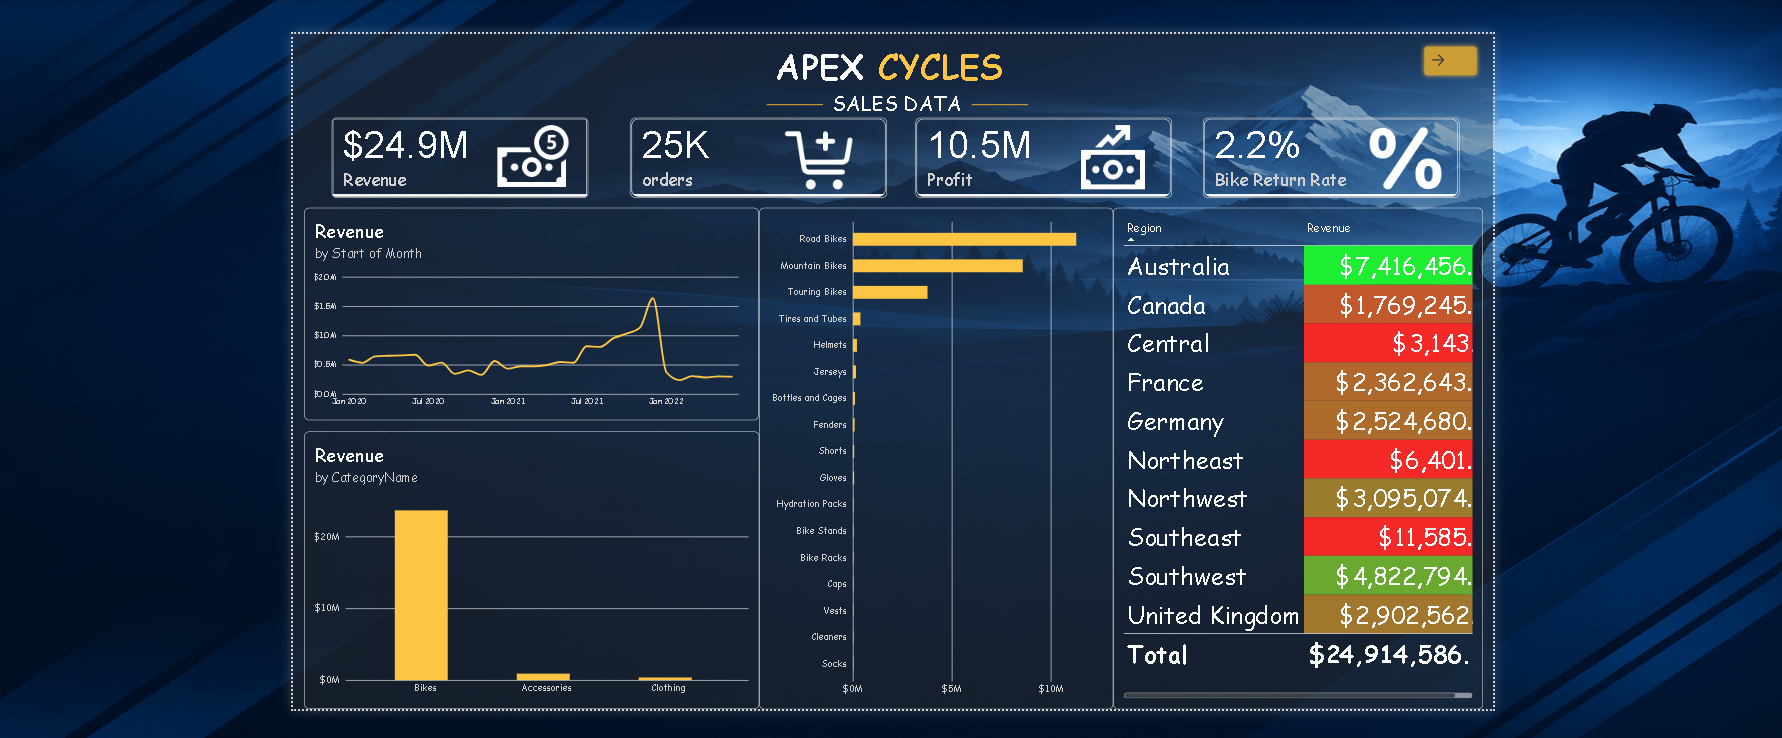

This screenshot's page, from the dashboard's own definition file:
{"tool":"powerbi","page":{"name":"Exclusive Dashboard","canvas":[1920,1080],"ordinal":0},"visuals":[{"type":"cardVisual","fields":{"Data":["Measure Table.Total Revenue"]},"box":[62,134,410,128],"z":0},{"type":"lineChart","fields":{"Category":["Calendar Lookup.Start of Month"],"Y":["Measure Table.Revenue"]},"box":[18.1,278.7,727.5,340.2],"z":1000},{"type":"clusteredColumnChart","fields":{"Category":["Product Categories Lookup.CategoryName"],"Y":["Measure Table.Revenue"]},"box":[18,636,728,444],"z":2000},{"type":"clusteredBarChart","fields":{"Category":["Product Subcategories Lookup.SubcategoryName"],"Y":["Measure Table.Revenue"]},"box":[746,278,566,802],"z":3000},{"type":"tableEx","fields":{"Values":["Territory Lookup.Region","Measure Table.Revenue"]},"box":[1312,278,592,802],"z":4000},{"type":"textbox","box":[28,12,1876,122],"z":5000},{"type":"cardVisual","fields":{"Data":["Calendar Lookup.total orders"]},"box":[540,134,410,128],"z":6000},{"type":"cardVisual","fields":{"Data":["Measure Table.Total Profit"]},"box":[996,134,410,128],"z":7000},{"type":"cardVisual","fields":{"Data":["Measure Table.Bike Return Rate"]},"box":[1456,134,410,128],"z":8000},{"type":"image","box":[264,134,236,126],"z":9000},{"type":"image","box":[730,136,236,126],"z":10000},{"type":"image","box":[1194,134,236,126],"z":11000},{"type":"image","box":[1662,136,236,126],"z":12000},{"type":"actionButton","title":"Customer Details","box":[1802,12,100,62],"z":13000},{"type":"shape","box":[1086,54,90,118],"z":14000},{"type":"shape","box":[758,54,90,118],"z":15000}]}

Visuals, with their boxes on the page's 1920x1080 design canvas (x1, y1, x2, y2). These are canvas units, not pixel positions in the 1782x738 screenshot, which may show the page scaled, cropped or inside an application window:
cardVisual - Measure Table.Total Revenue: <region>62, 134, 472, 262</region>
lineChart - Calendar Lookup.Start of Month x Measure Table.Revenue: <region>18, 279, 746, 619</region>
clusteredColumnChart - Product Categories Lookup.CategoryName x Measure Table.Revenue: <region>18, 636, 746, 1080</region>
clusteredBarChart - Product Subcategories Lookup.SubcategoryName x Measure Table.Revenue: <region>746, 278, 1312, 1080</region>
tableEx - Territory Lookup.Region x Measure Table.Revenue: <region>1312, 278, 1904, 1080</region>
textbox: <region>28, 12, 1904, 134</region>
cardVisual - Calendar Lookup.total orders: <region>540, 134, 950, 262</region>
cardVisual - Measure Table.Total Profit: <region>996, 134, 1406, 262</region>
cardVisual - Measure Table.Bike Return Rate: <region>1456, 134, 1866, 262</region>
image: <region>264, 134, 500, 260</region>
image: <region>730, 136, 966, 262</region>
image: <region>1194, 134, 1430, 260</region>
image: <region>1662, 136, 1898, 262</region>
"Customer Details" actionButton: <region>1802, 12, 1902, 74</region>
shape: <region>1086, 54, 1176, 172</region>
shape: <region>758, 54, 848, 172</region>
